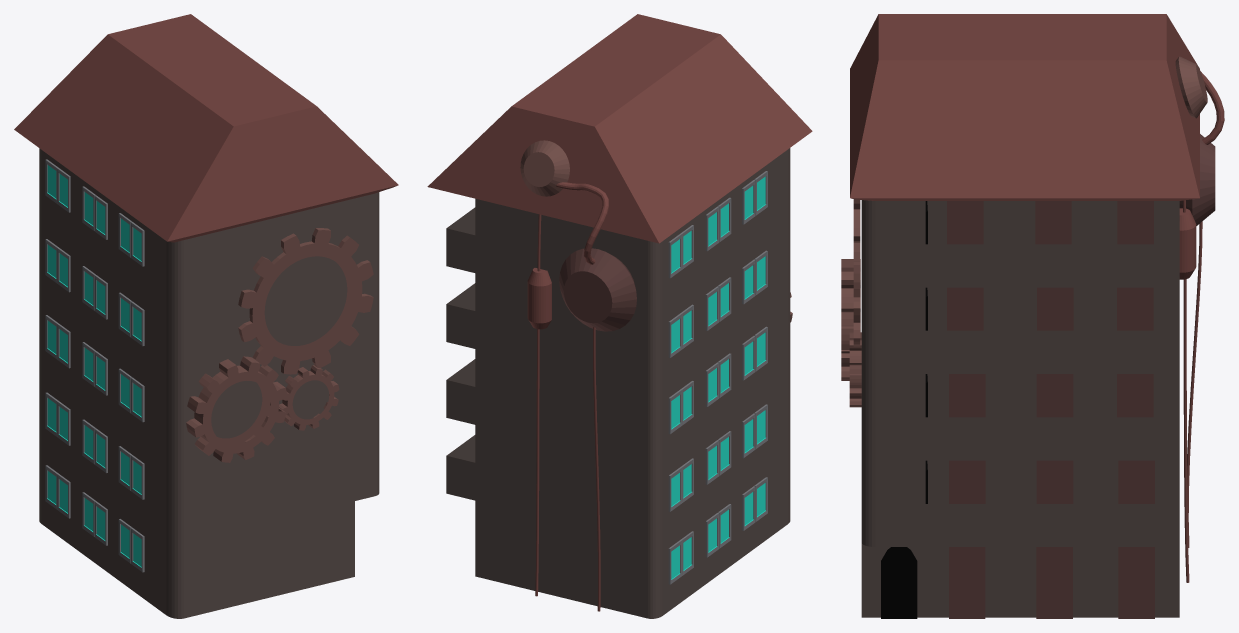
The model's file is Building17.fbx.
3 renders of one model, left to right at view 1: azimuth 30°, elevation 25°; view 2: azimuth 150°, elevation 25°; view 3: azimuth 270°, elevation 25°, orthographic. The views are drawn at different scales.
Parts seen in each view (by area): view 1: house 1; view 2: house 1; view 3: house 1.
Boxes of the visible parts, x1=… form: house 1: x1=14, y1=14, x2=398, y2=618; house 1: x1=427, y1=14, x2=812, y2=618; house 1: x1=841, y1=14, x2=1224, y2=618.
Size of the model in its own units: 985 by 1924 by 1234.
Materials: 3 (1 with a texture image).
